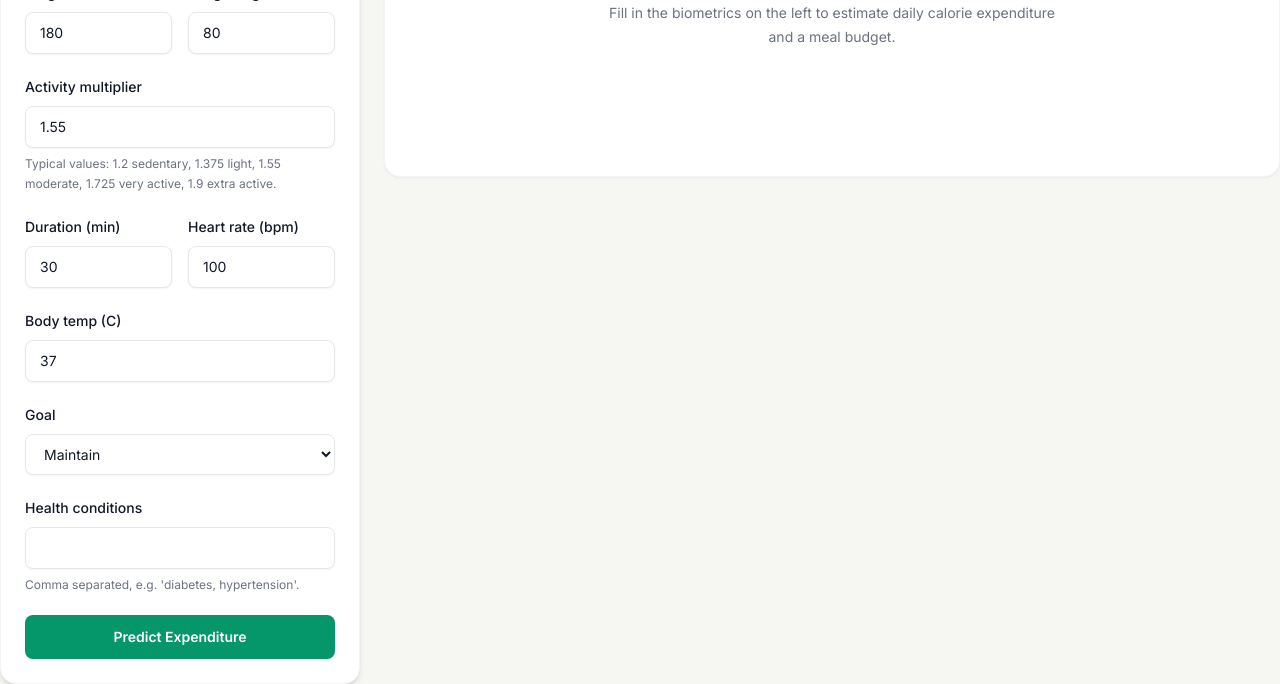
CaloriesTab error text › still prefers the backend's detail when there is one
(page scrolled)
Click the button "Predict Expenditure" at (180, 637), box [25,615,335,659]
(page scrolled)
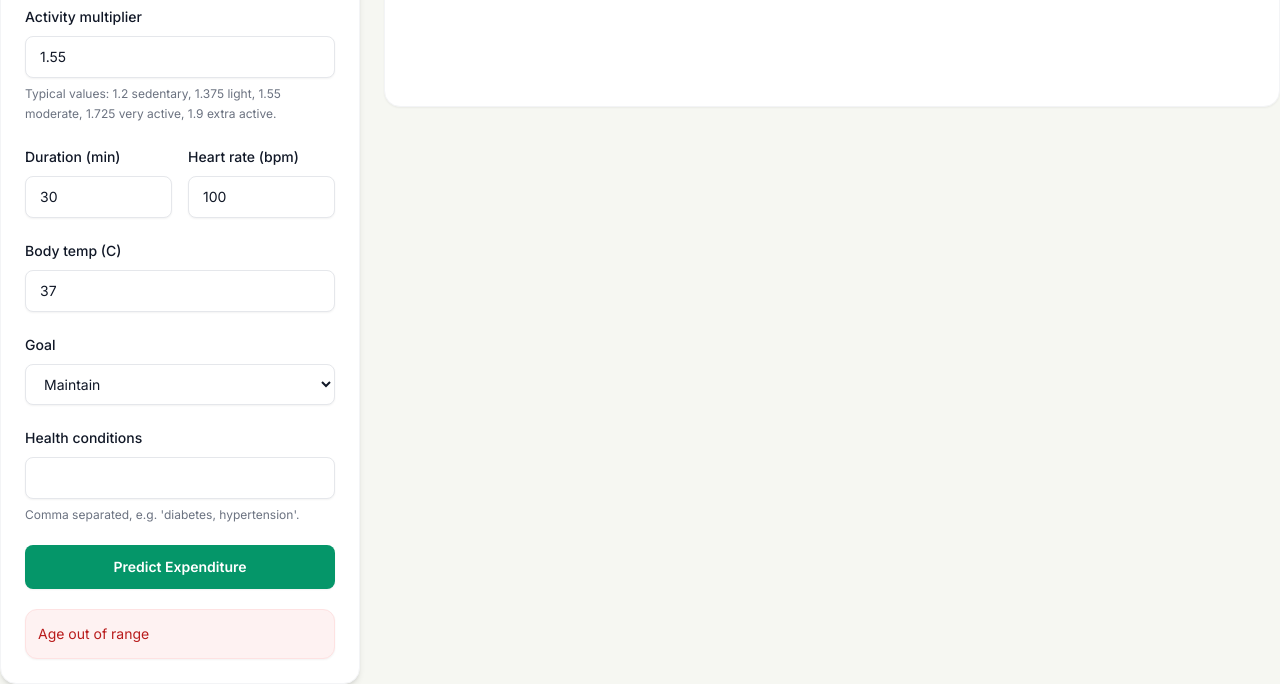
Expected: the text "Age out of range" is shown, [25,609,335,659]
